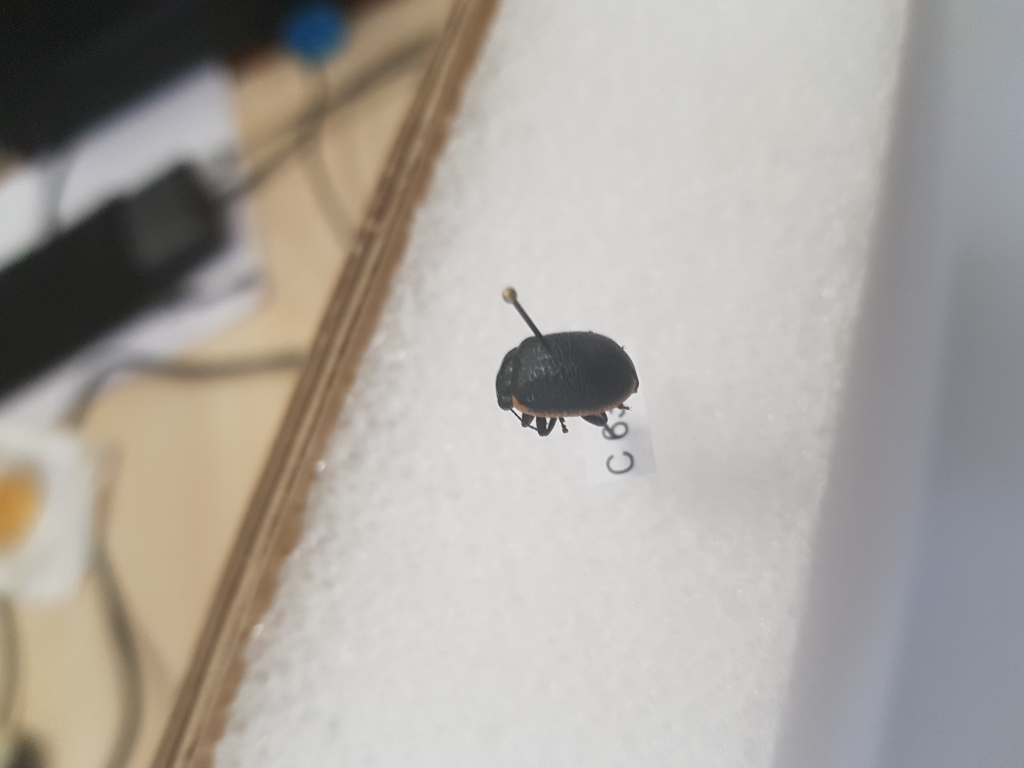Chrysolina_gypsophila: (490, 327, 645, 442)
